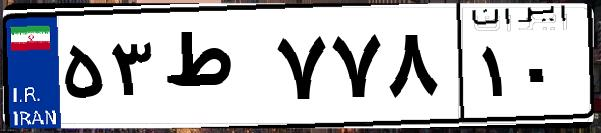0: (525, 38, 570, 115)
1: (475, 38, 525, 113)
3: (110, 28, 158, 98)
5: (57, 26, 110, 100)
7: (270, 28, 330, 110), (330, 28, 385, 110)
8: (385, 28, 445, 110)
ط: (158, 20, 270, 120)
